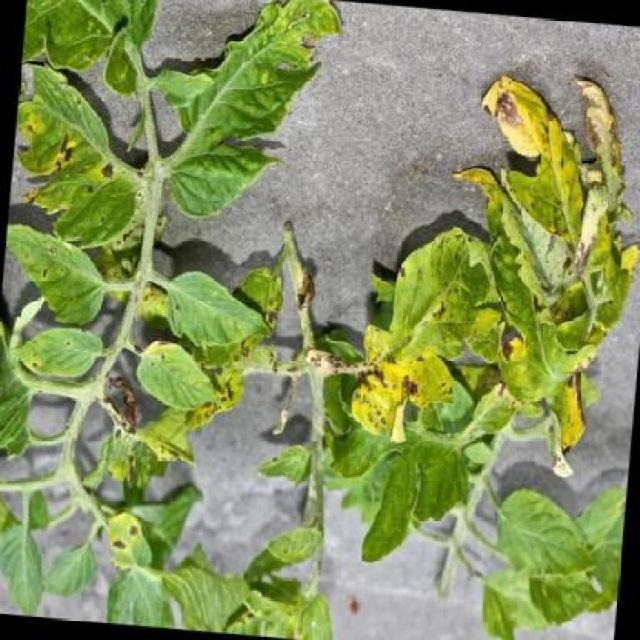Septoria leaf spot: (335, 224, 493, 436), (7, 65, 155, 249), (464, 64, 594, 231), (99, 507, 156, 573)
